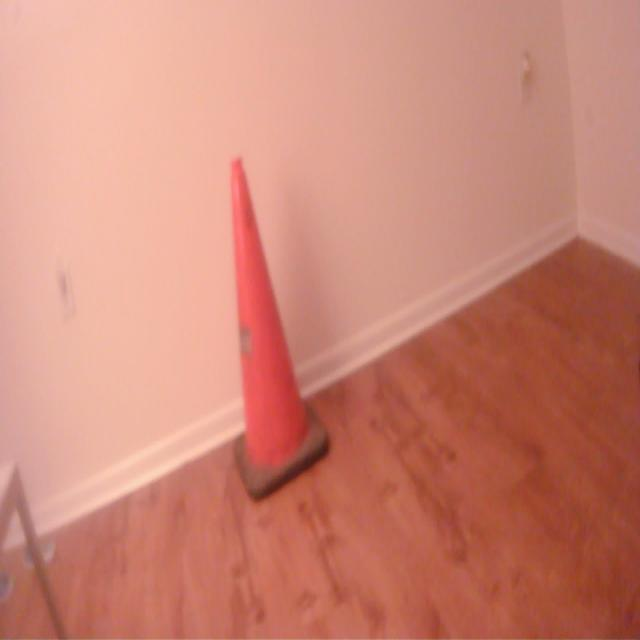traffic cone: (228, 154, 334, 506)
